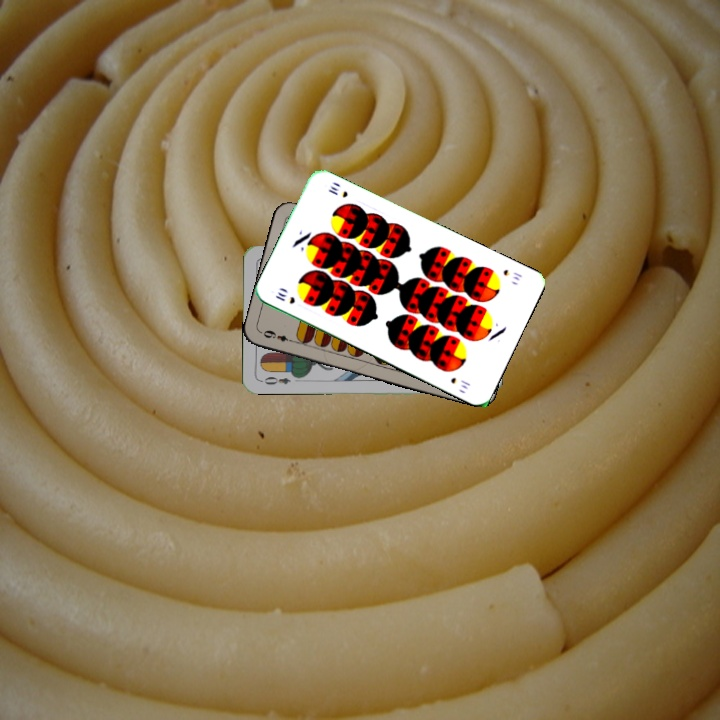E9: (259, 326, 297, 345)
EO: (257, 373, 293, 387)
S10: (271, 288, 298, 307), (499, 265, 525, 283)
